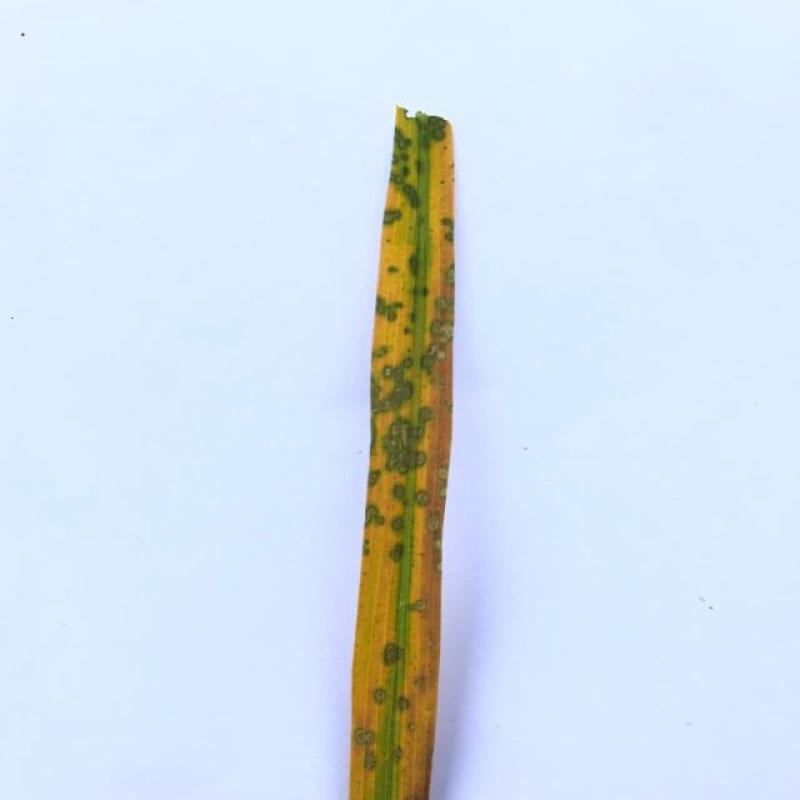Rice Tungro: (414, 105, 456, 799), (365, 337, 399, 800)
